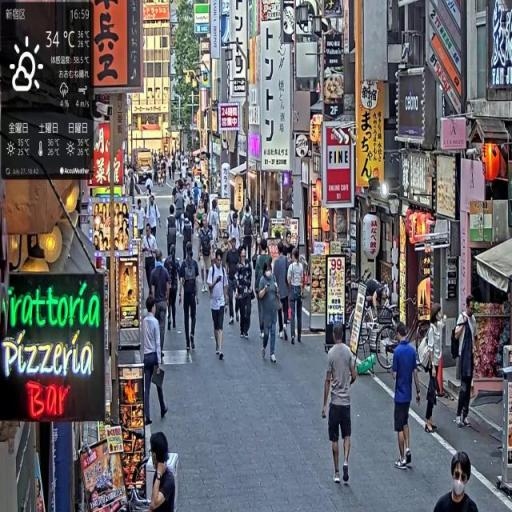person: (322, 321, 359, 489), (392, 324, 424, 472), (453, 296, 480, 431), (143, 296, 170, 427), (433, 450, 482, 512), (421, 307, 444, 436), (179, 242, 202, 356), (207, 249, 230, 362), (150, 252, 171, 367), (151, 430, 177, 512), (236, 247, 256, 342), (273, 245, 291, 350), (287, 252, 306, 343), (165, 246, 182, 335), (226, 239, 242, 325), (143, 223, 159, 302), (199, 217, 216, 288)
